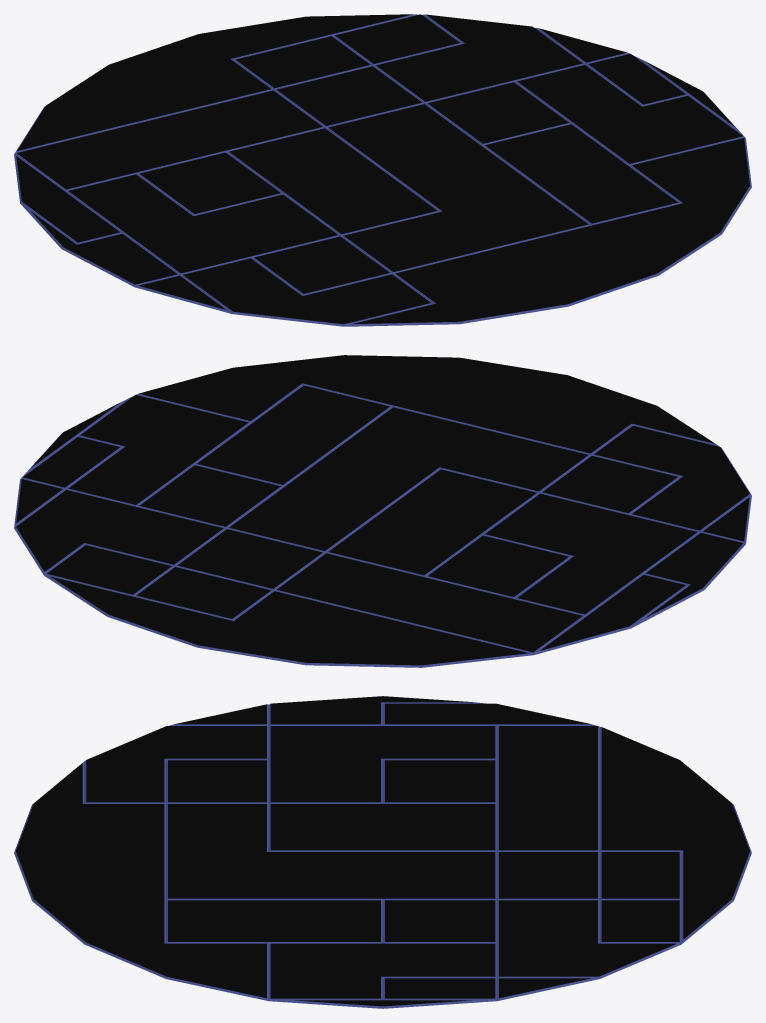
3 renders of one model, top to bottom at view 1: azimuth 30°, elevation 25°; view 2: azimuth 150°, elevation 25°; view 3: azimuth 270°, elevation 25°, orthographic.
Visible parts, largest first — view 1: Cyberpunk Round Tile.010; view 2: Cyberpunk Round Tile.010; view 3: Cyberpunk Round Tile.010.
Part boxes in pixels (x1,y1,x2,y2): Cyberpunk Round Tile.010: (14,14,751,326); Cyberpunk Round Tile.010: (14,355,751,667); Cyberpunk Round Tile.010: (14,696,751,1008).
Size of the model in its own units: 0.845 by 0.00211 by 0.845.
Materials: 1 (1 with a texture image).
